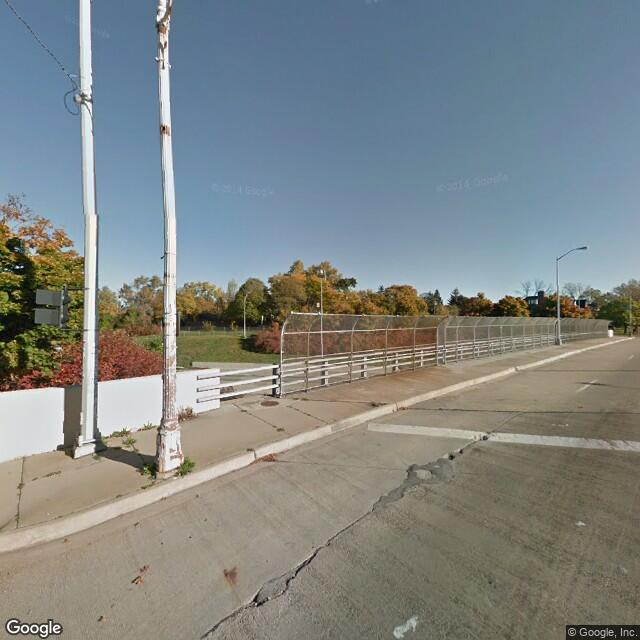litter: (179, 413, 192, 422)
